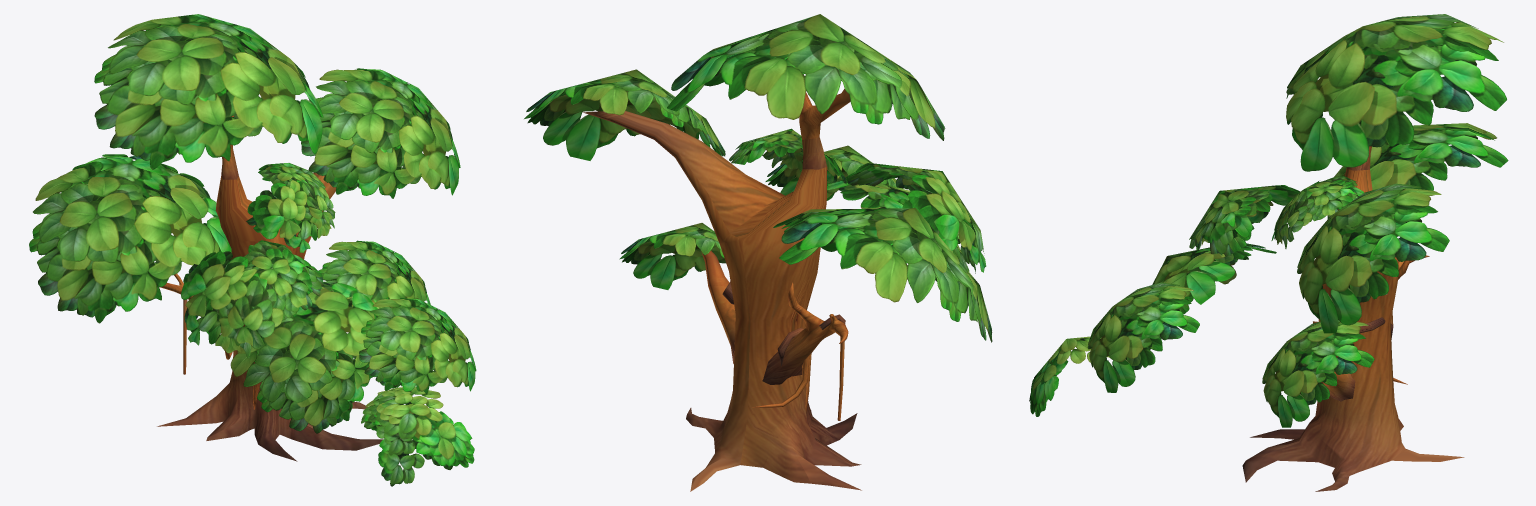
Rendered from shu01.FBX.
3 views of the same model, side by side, from view 1: azimuth 30°, elevation 25°; view 2: azimuth 150°, elevation 25°; view 3: azimuth 270°, elevation 25° (orthographic). The views are drawn at different scales.
Visible parts, largest first — view 1: Sphere10, Group49; view 2: Sphere10, Group49; view 3: Sphere10, Group49.
Boxes of the visible parts, bbox=[...] form: Sphere10: bbox=[29, 14, 476, 486]; Group49: bbox=[157, 115, 383, 461]; Sphere10: bbox=[524, 14, 992, 342]; Group49: bbox=[583, 89, 861, 491]; Sphere10: bbox=[1029, 14, 1508, 427]; Group49: bbox=[1242, 146, 1464, 491].
Size of the model in its own units: 758 by 681 by 764.
